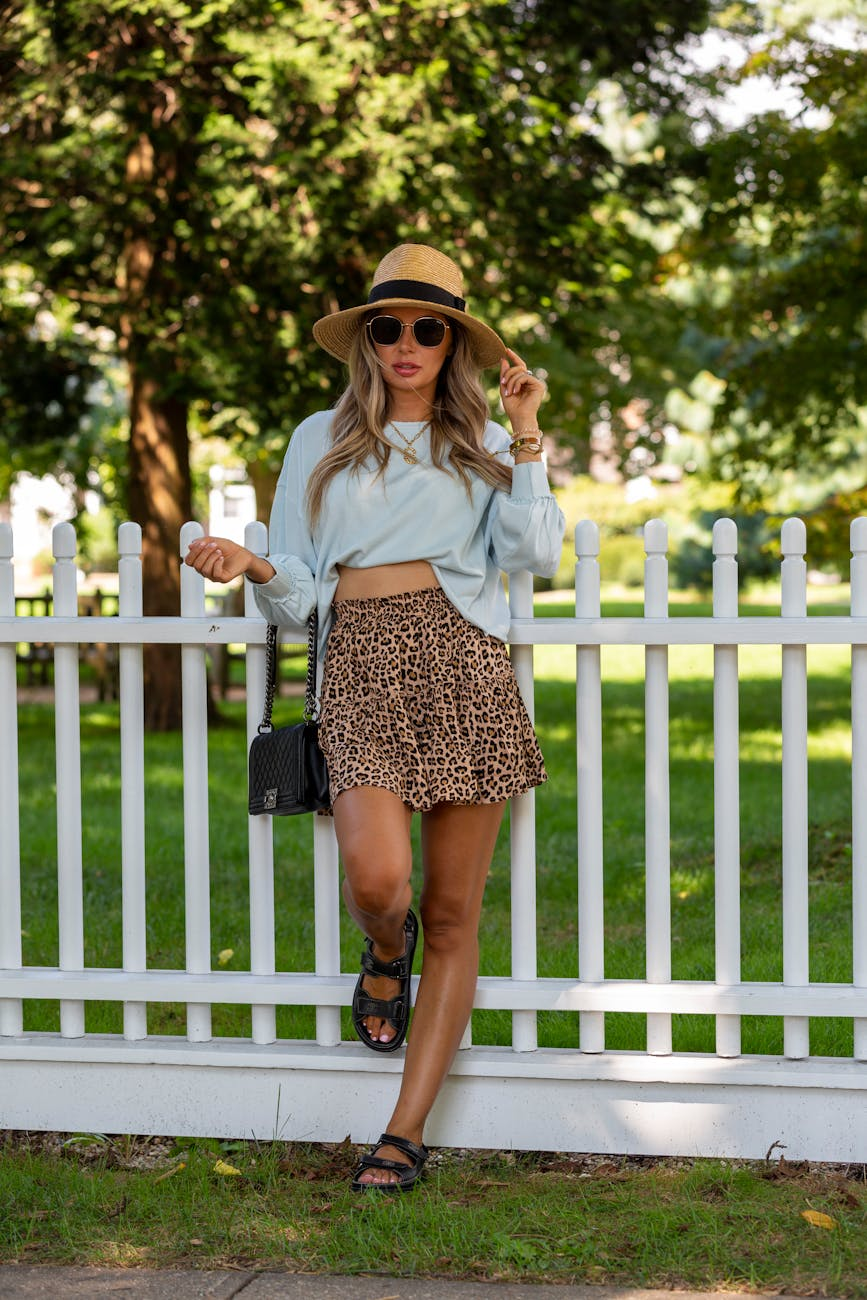crop_top: (267, 412, 544, 576)
opened_foot: (344, 939, 416, 1054), (351, 1132, 431, 1190)
short_medium_skirt: (292, 575, 554, 812)
